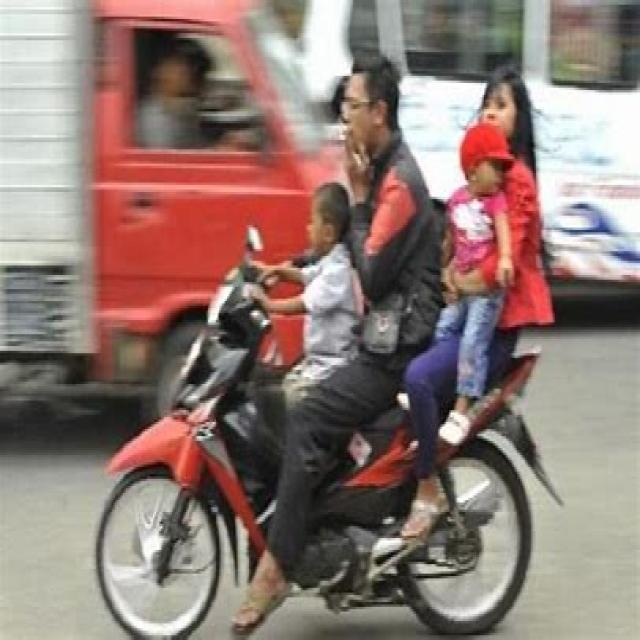Without Helmet: (335, 52, 406, 154), (482, 65, 533, 155), (304, 170, 333, 250)
